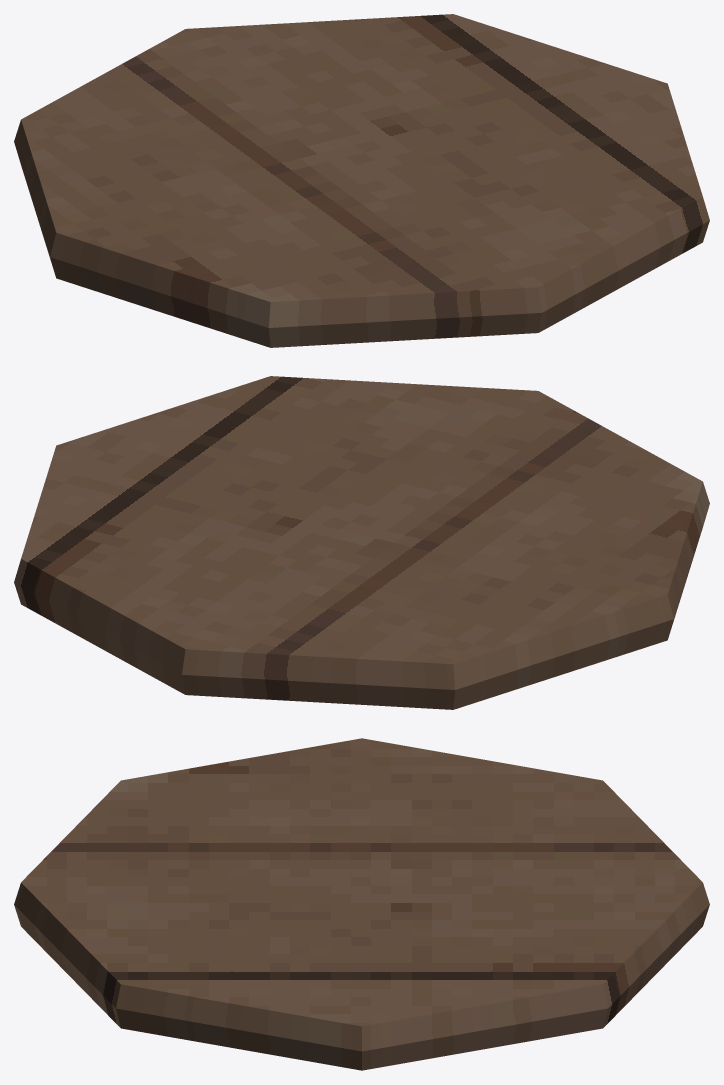
Rendered from barrel_lid.glb.
3 views of the same model, one above another, from view 1: azimuth 30°, elevation 25°; view 2: azimuth 150°, elevation 25°; view 3: azimuth 270°, elevation 25° (orthographic). The views are drawn at different scales.
Visible parts, largest first — view 1: barrel_lid; view 2: barrel_lid; view 3: barrel_lid.
Boxes of the visible parts, bbox=[...] form: barrel_lid: bbox=[14, 14, 709, 347]; barrel_lid: bbox=[14, 376, 709, 709]; barrel_lid: bbox=[14, 738, 709, 1070].
Size of the model in its own units: 0.7669 by 0.0537 by 0.7669.
1 material, 1 textured.
